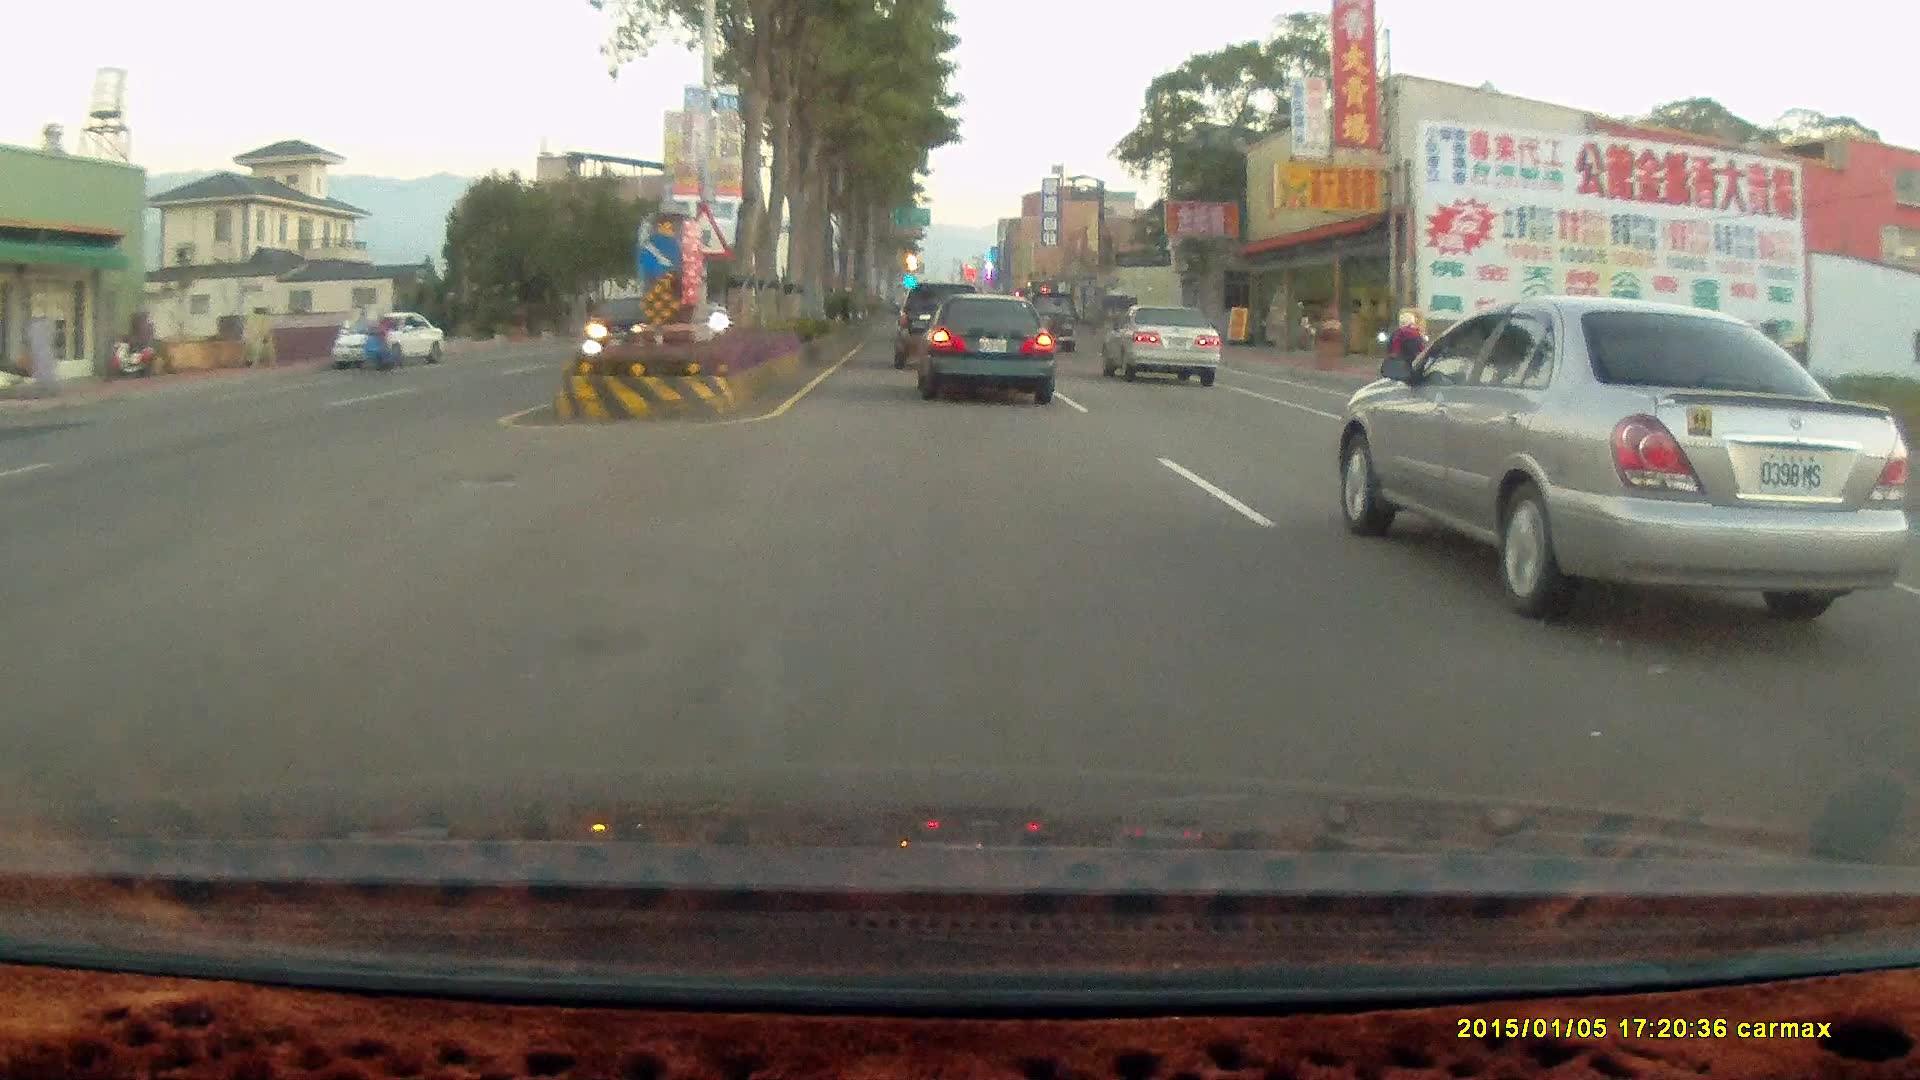rider: (1371, 299, 1446, 425), (1373, 316, 1425, 423), (351, 303, 393, 375)
vehicle: (1348, 288, 1920, 624), (910, 294, 1054, 406), (917, 298, 1060, 405), (1107, 305, 1228, 389), (1100, 303, 1221, 387), (891, 281, 984, 375), (892, 281, 980, 368), (324, 309, 447, 368), (324, 309, 446, 368), (582, 291, 689, 359), (1014, 289, 1077, 352)
